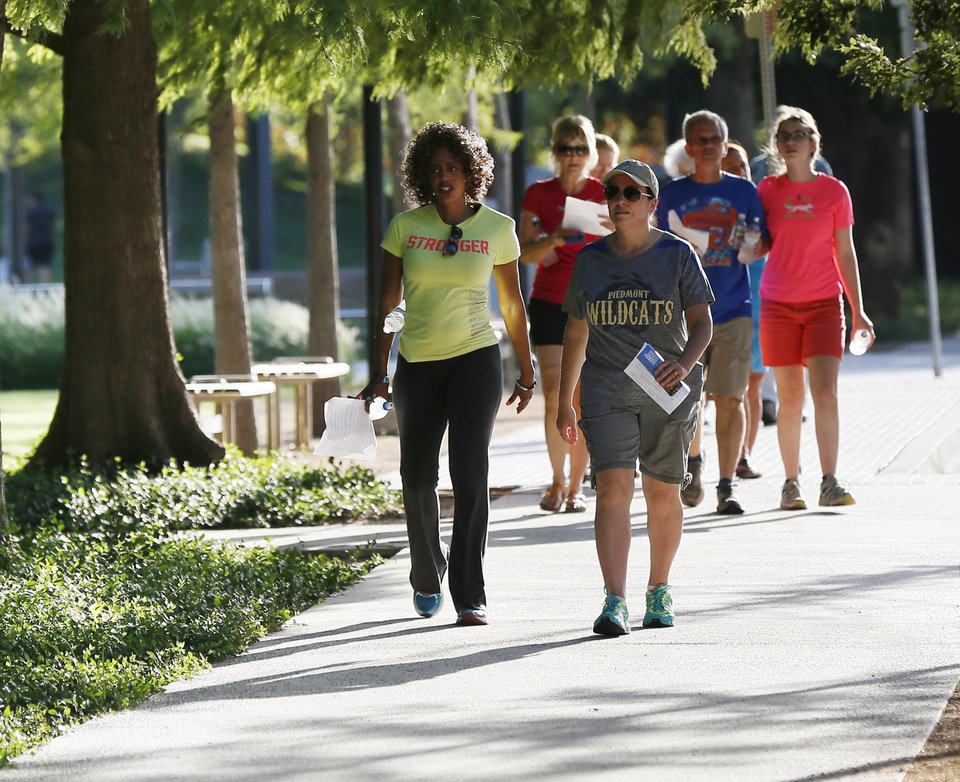Person: (349, 120, 536, 626), (555, 160, 715, 637), (754, 105, 877, 511), (649, 110, 771, 516), (518, 114, 617, 514)
